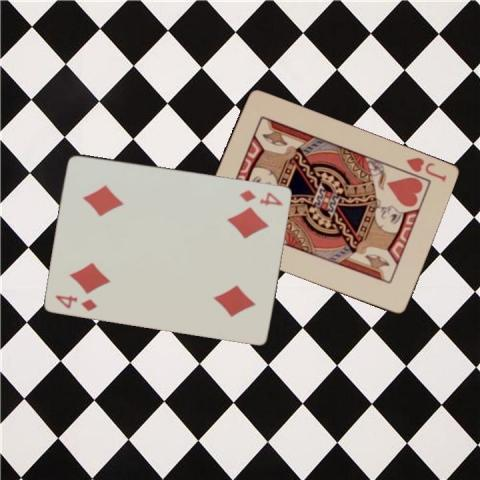4d: (52, 291, 99, 312), (237, 187, 284, 207)
Jh: (403, 155, 448, 183)
